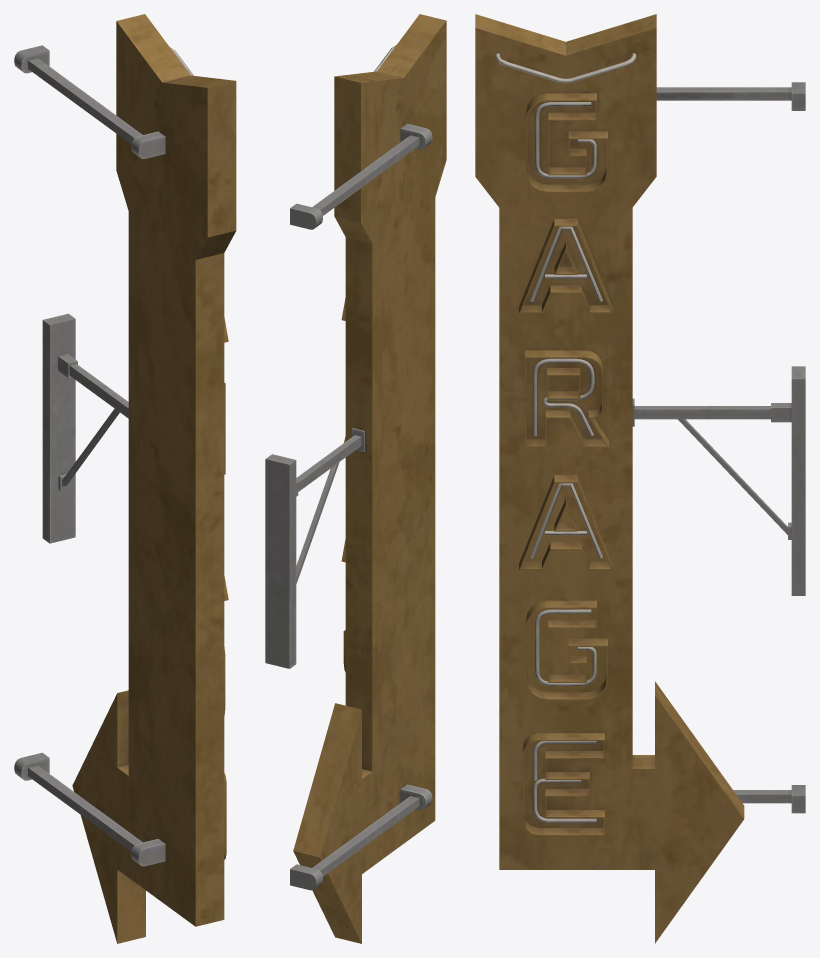
File: SM_NeonSigns_Garage.FBX
3 views of the same model, side by side, from view 1: azimuth 30°, elevation 25°; view 2: azimuth 150°, elevation 25°; view 3: azimuth 270°, elevation 25° (orthographic). The views are drawn at different scales.
Visible parts, largest first — view 1: SM_NeonSigns_Garage_LOD0; view 2: SM_NeonSigns_Garage_LOD0; view 3: SM_NeonSigns_Garage_LOD0.
Part boxes in pixels (<box>): SM_NeonSigns_Garage_LOD0: <box>14,14,236,943</box>; SM_NeonSigns_Garage_LOD0: <box>265,14,446,943</box>; SM_NeonSigns_Garage_LOD0: <box>475,14,805,943</box>.
Size of what is drawn, in the model's own units: 33.98 by 139 by 423.
